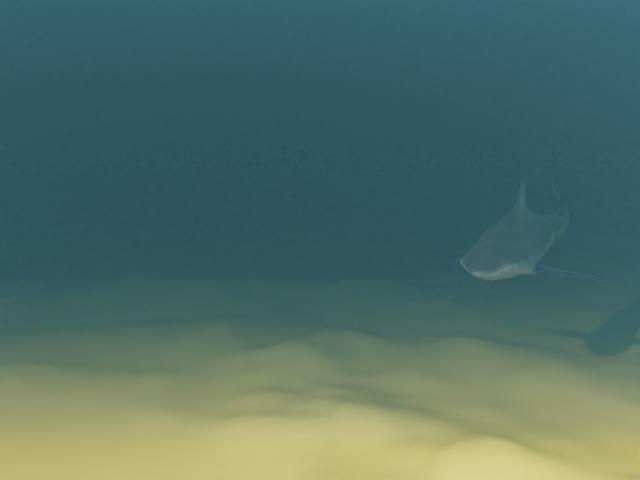Carribean Shark.001: (430, 168, 610, 281)
